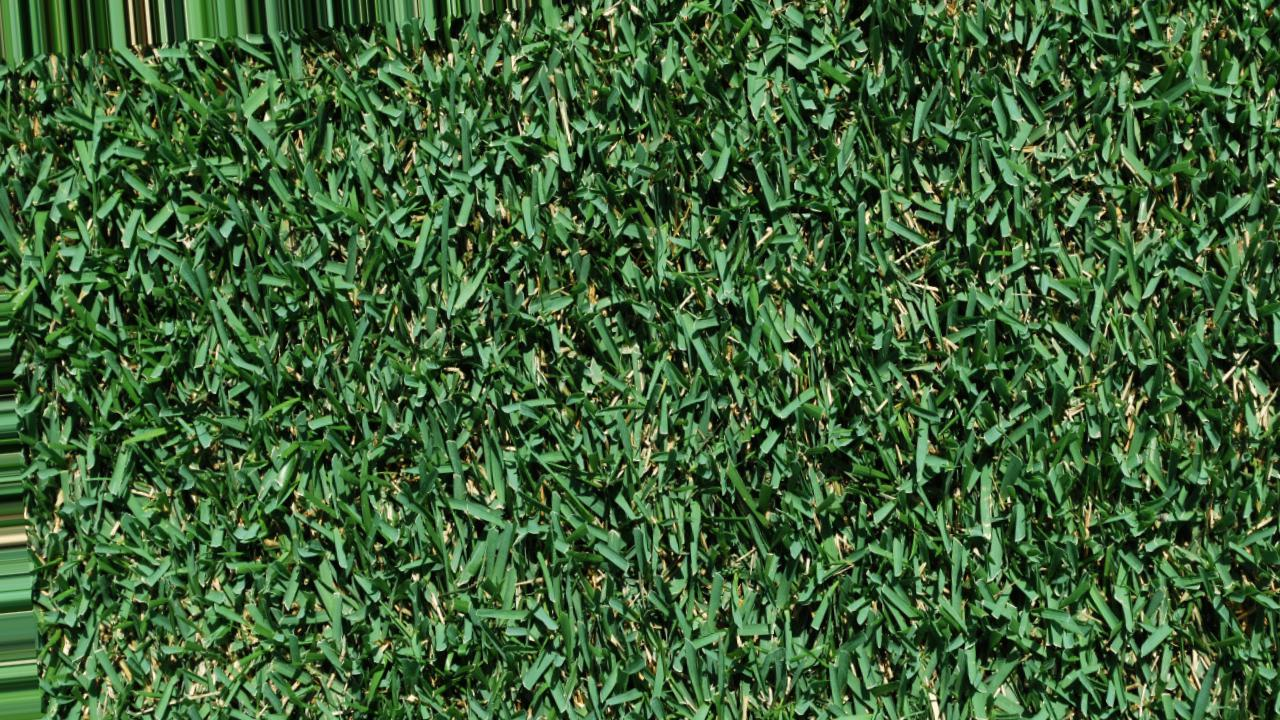patch: (39, 486, 83, 552)
